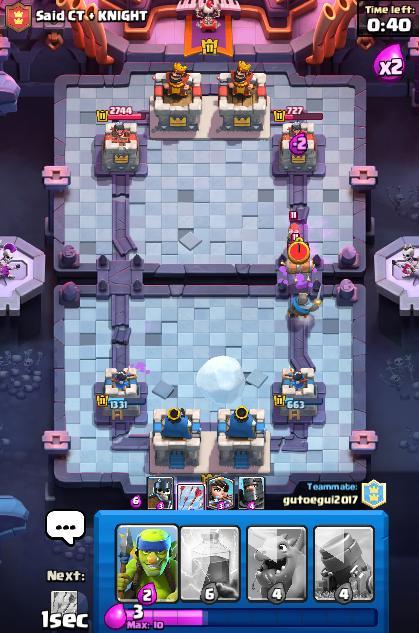EBomber: (287, 223, 300, 244)
EKingTower: (217, 61, 266, 129), (153, 63, 201, 130)
EnemyPrincessTower: (272, 112, 325, 176), (95, 113, 146, 175)
OKnight: (288, 287, 321, 322)
OwnKingTower: (218, 406, 269, 471), (150, 409, 199, 471)
OwnPrincessTower: (272, 366, 323, 421), (95, 368, 146, 421)
